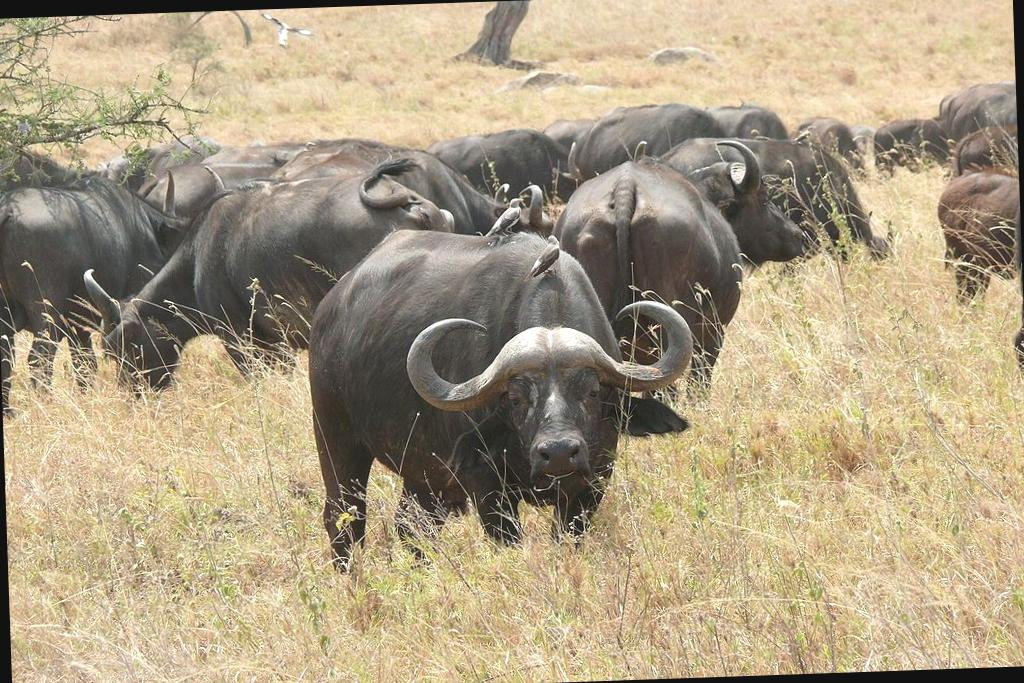Buffalo: (46, 77, 758, 516)
